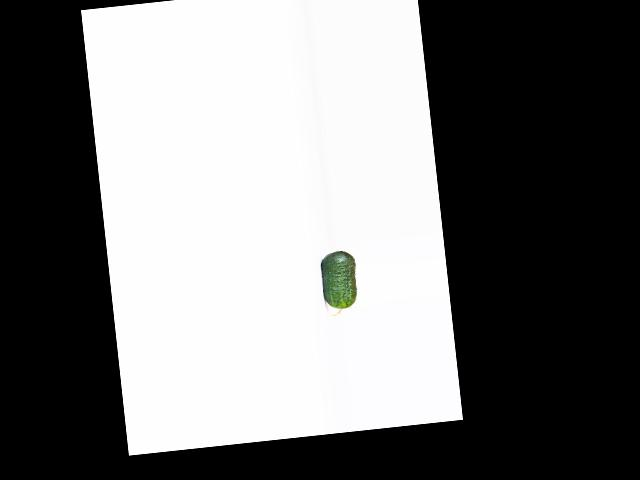cucumber: (319, 250, 361, 317)
